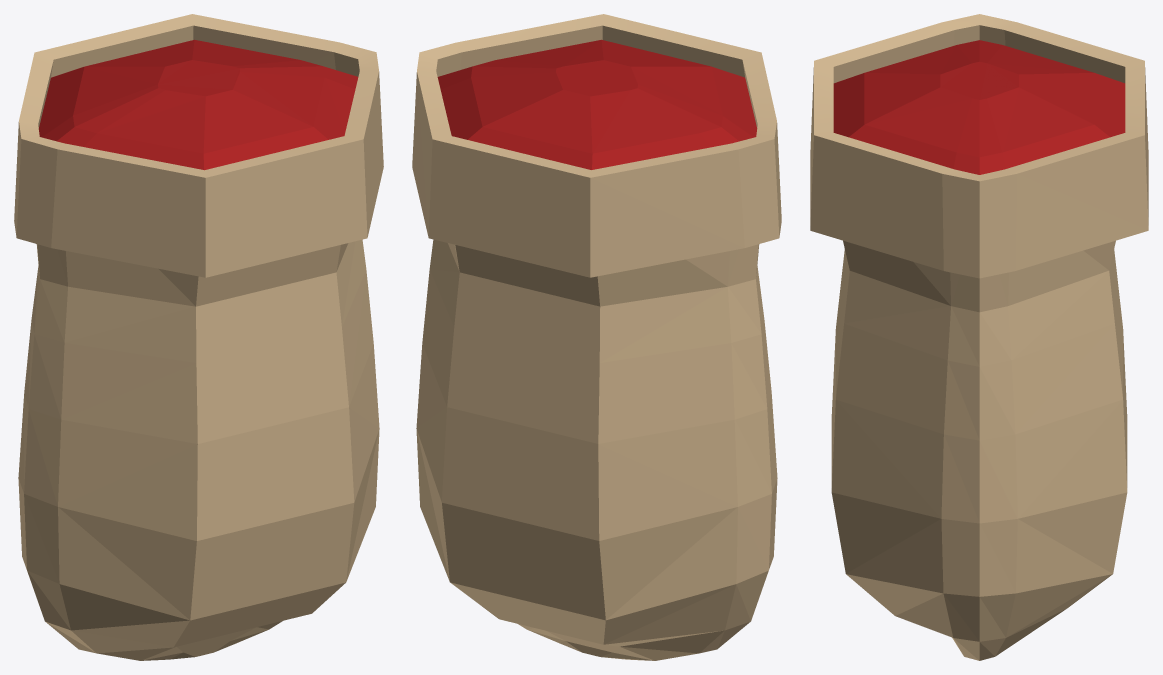
File: SM_sack_02.fbx
3 renders of one model, left to right at view 1: azimuth 30°, elevation 25°; view 2: azimuth 150°, elevation 25°; view 3: azimuth 270°, elevation 25°, orthographic. The views are drawn at different scales.
Parts seen in each view (by area): view 1: Box056; view 2: Box056; view 3: Box056.
Part boxes in pixels (<box>): Box056: <box>14,14,383,660</box>; Box056: <box>412,14,781,660</box>; Box056: <box>810,14,1148,660</box>.
Size of the model in its own units: 27.41 by 41.34 by 22.8.
